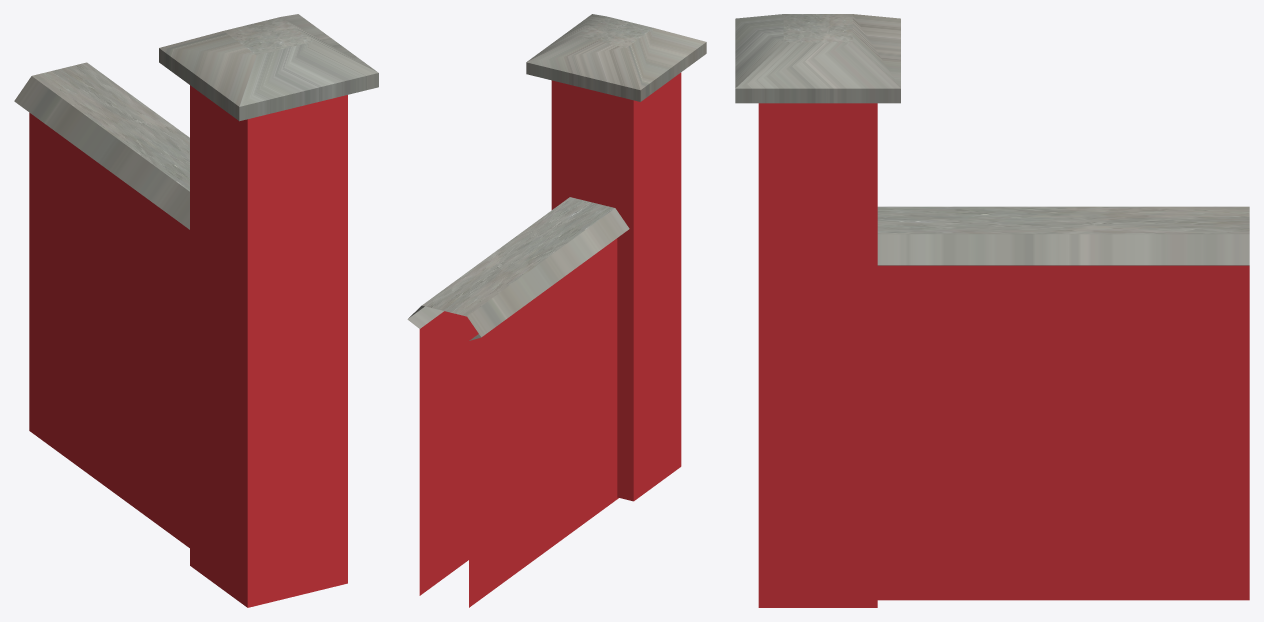
File: StoneWall.fbx
3 views of the same model, side by side, from view 1: azimuth 30°, elevation 25°; view 2: azimuth 150°, elevation 25°; view 3: azimuth 270°, elevation 25° (orthographic). The views are drawn at different scales.
Parts seen in each view (by area): view 1: StoneWallCorner, StoneWallCenter; view 2: StoneWallCenter, StoneWallCorner; view 3: StoneWallCenter, StoneWallCorner.
Boxes of the visible parts, <box> form: StoneWallCorner: <box>159,14,378,607</box>; StoneWallCenter: <box>14,62,189,547</box>; StoneWallCenter: <box>407,197,629,607</box>; StoneWallCorner: <box>526,14,706,501</box>; StoneWallCenter: <box>877,206,1249,600</box>; StoneWallCorner: <box>735,14,900,607</box>.
Bounding box in the file's own units: 466 × 1726 × 1446.
